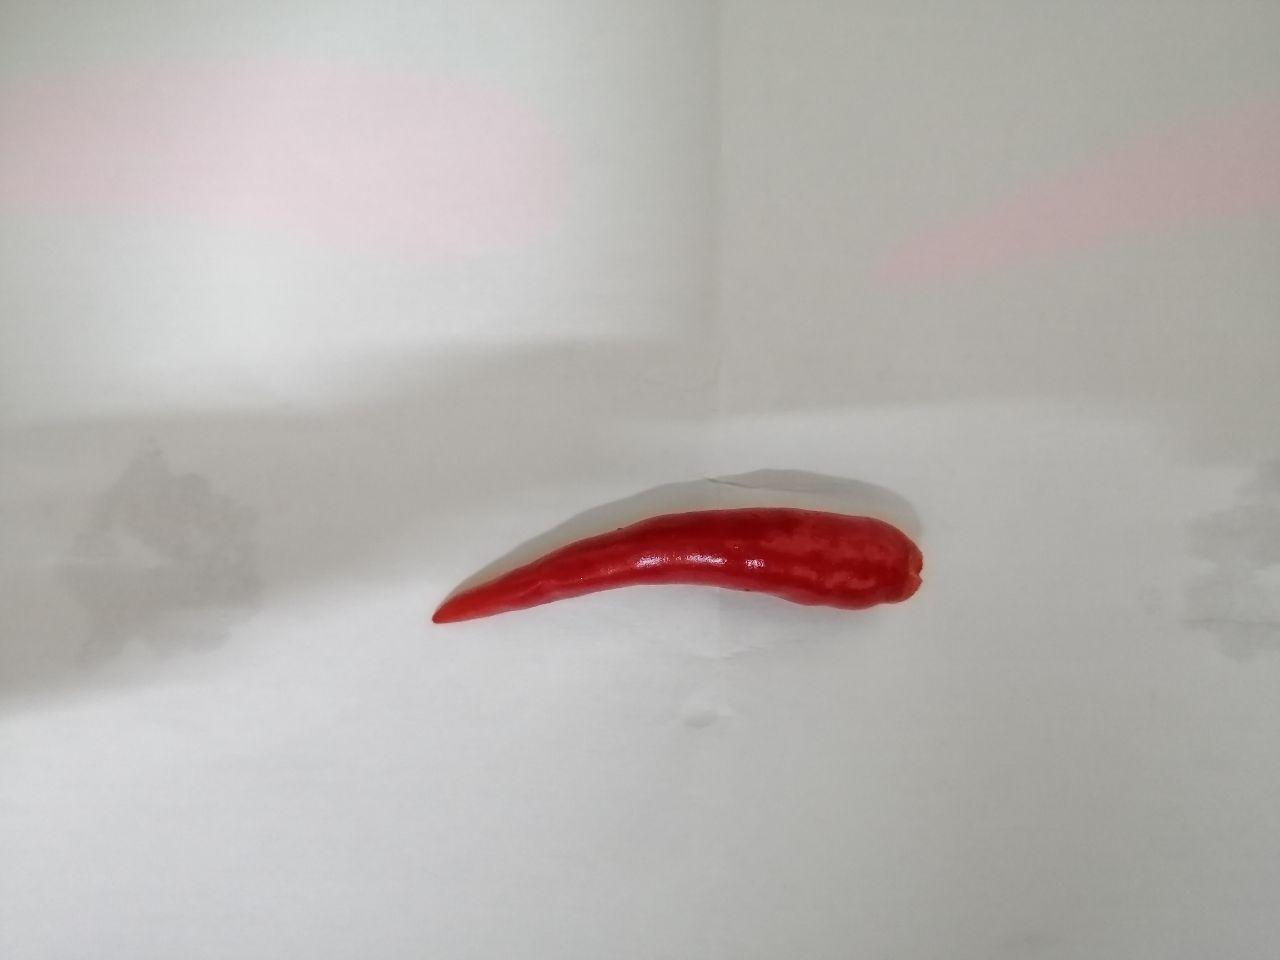lada merah: (408, 493, 937, 674)
